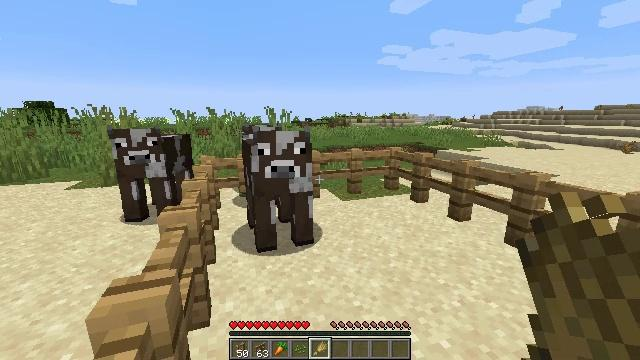cow: (245, 132, 312, 251), (109, 129, 194, 222)
